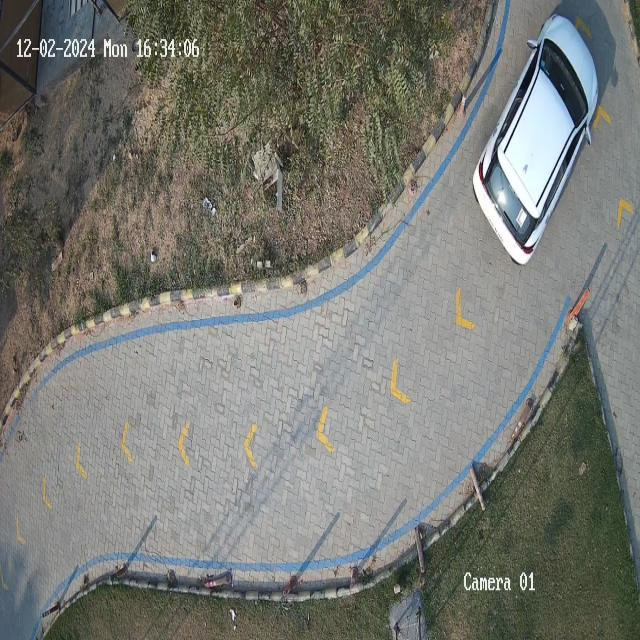car: (472, 12, 600, 266)
